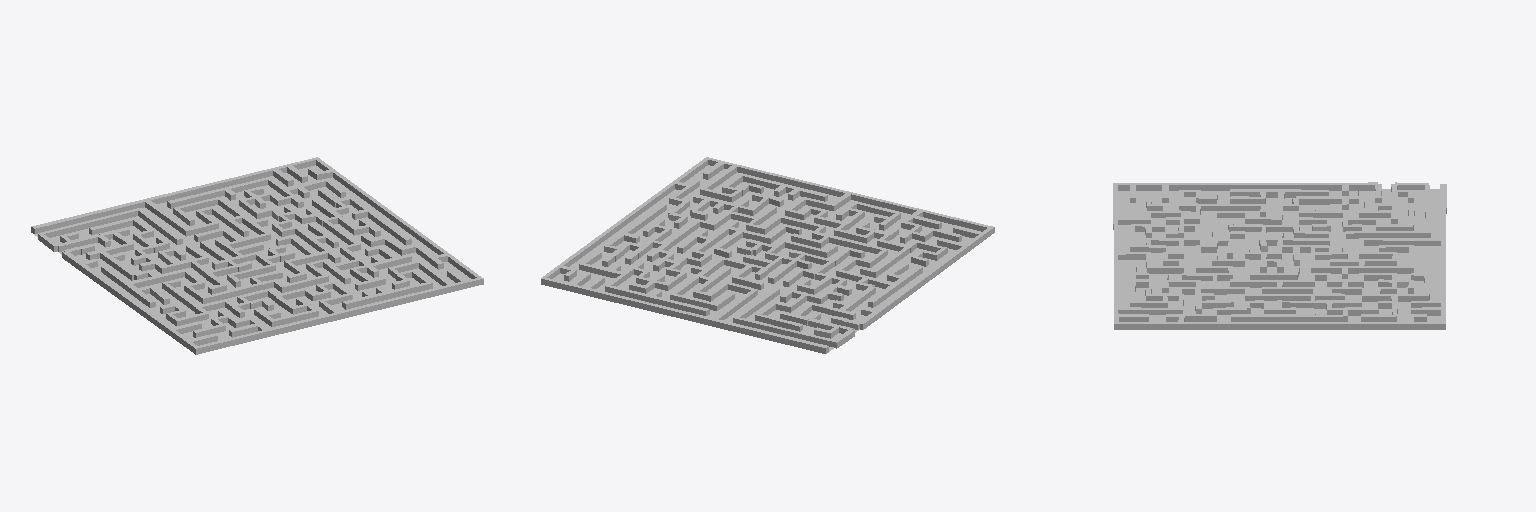
File: Maze_tri.obj
The picture shows the model from 3 angles: view 1: azimuth 30°, elevation 25°; view 2: azimuth 150°, elevation 25°; view 3: azimuth 270°, elevation 25°; orthographic projection.
Visible parts, largest first — view 1: Sweep_1; view 2: Sweep_1; view 3: Sweep_1.
Boxes of the visible parts, <box> form: Sweep_1: <box>31,157,483,354</box>; Sweep_1: <box>541,157,994,353</box>; Sweep_1: <box>1113,182,1446,329</box>.
Size of the model in its own units: 20.37 by 0.4 by 20.33.